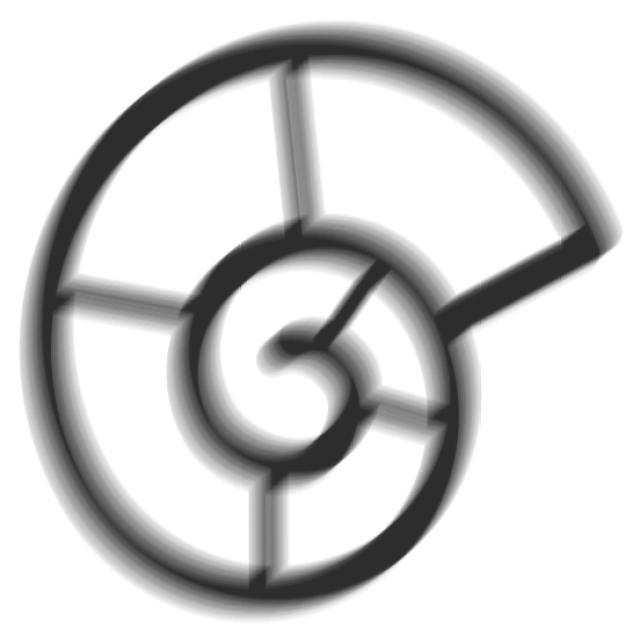fossil: (14, 16, 630, 630)
